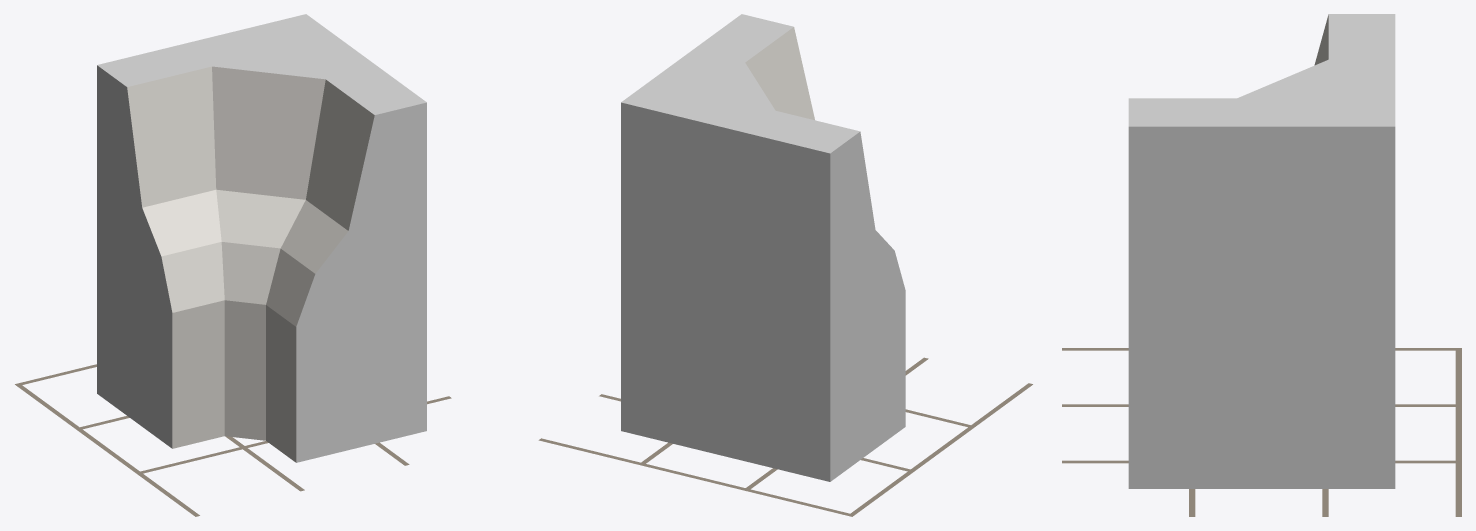
The model's file is Basic_Curve_Inner_2x2_Narrow_Base.glb.
The picture shows the model from 3 angles, left to right: view 1: azimuth 30°, elevation 25°; view 2: azimuth 150°, elevation 25°; view 3: azimuth 270°, elevation 25°; orthographic projection. The views are drawn at different scales.
Parts seen in each view (by area): view 1: Basic_Curve_Inner_2x2_Narrow_Base, Floor; view 2: Basic_Curve_Inner_2x2_Narrow_Base, Floor; view 3: Basic_Curve_Inner_2x2_Narrow_Base, Floor.
Part boxes in pixels (box(x1,y1,x2,y2)): Basic_Curve_Inner_2x2_Narrow_Base: box(97, 14, 426, 462); Floor: box(15, 364, 451, 516); Basic_Curve_Inner_2x2_Narrow_Base: box(621, 14, 905, 481); Floor: box(538, 357, 1032, 516); Basic_Curve_Inner_2x2_Narrow_Base: box(1128, 14, 1395, 488); Floor: box(1062, 348, 1461, 516).
Size of the model in its own units: 300 by 300 by 300.
3 materials, 1 textured.
